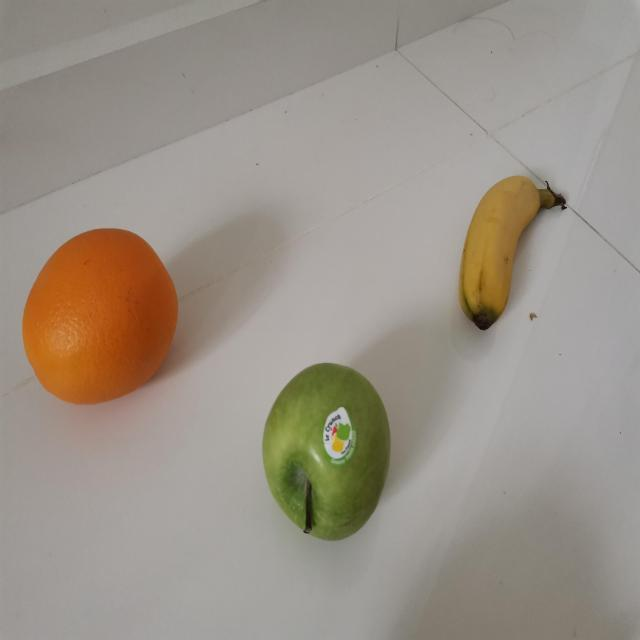Apple: (259, 360, 392, 540)
Banana: (457, 170, 572, 337)
Orange: (17, 225, 181, 408)
